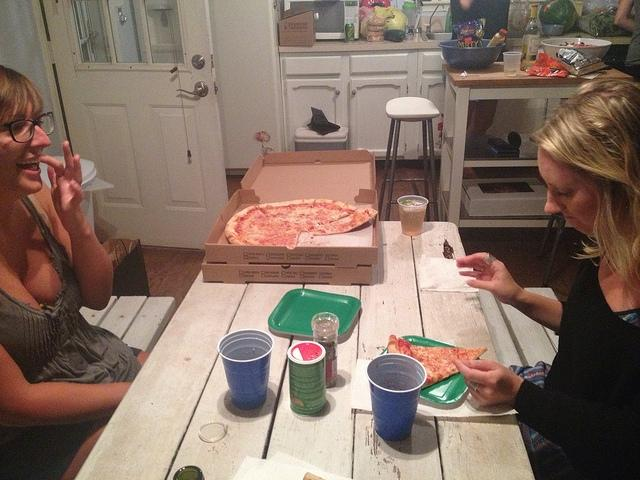watermelon: (538, 0, 576, 32)
